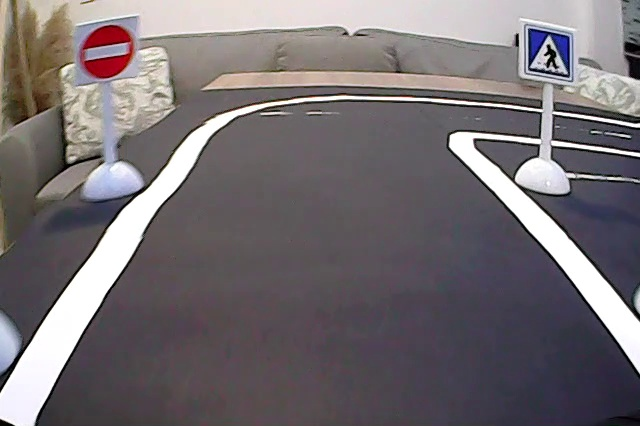do not enter: (78, 21, 138, 82)
pedestrian crossing: (523, 23, 574, 83)
